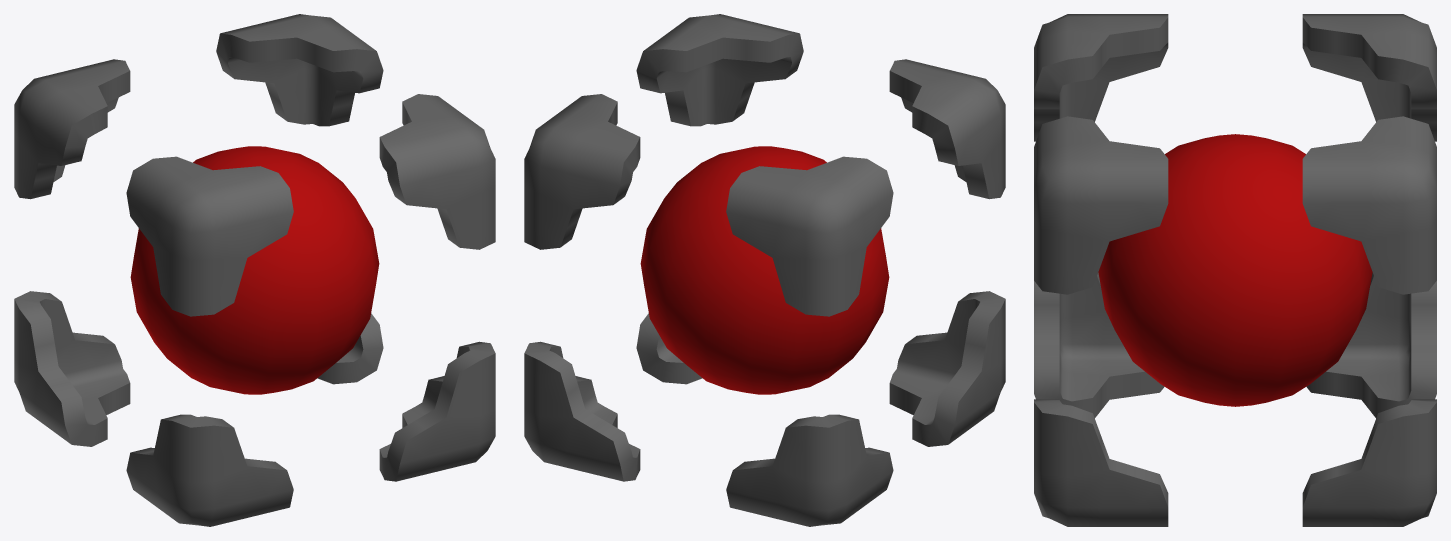
Rendered from Pickup Sphere.glb.
The picture shows the model from 3 angles, left to right: view 1: azimuth 30°, elevation 25°; view 2: azimuth 150°, elevation 25°; view 3: azimuth 270°, elevation 25°; orthographic projection. The views are drawn at different scales.
Visible parts, largest first — view 1: Pickup_Sphere; view 2: Pickup_Sphere; view 3: Pickup_Sphere.
Boxes of the visible parts, left/top/right/bottom form: Pickup_Sphere: left=14, top=14, right=495, bottom=526; Pickup_Sphere: left=524, top=14, right=1005, bottom=526; Pickup_Sphere: left=1034, top=14, right=1436, bottom=526.
Bounding box in the file's own units: 0.8856 × 0.8856 × 0.8856.
Materials: 1 (1 with a texture image).
